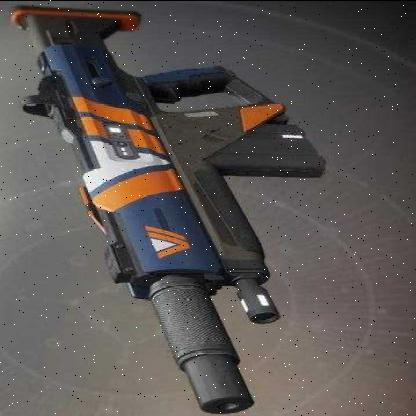rifle: (7, 2, 348, 416)
